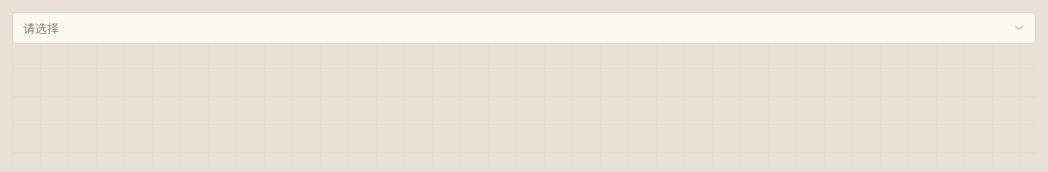
MultiSelect › **没有就地新建入口**：标签词表统一在「标签管理」里建
Click the button with aria-label "标签".
click(41, 28)  # box [12,12,1036,44]
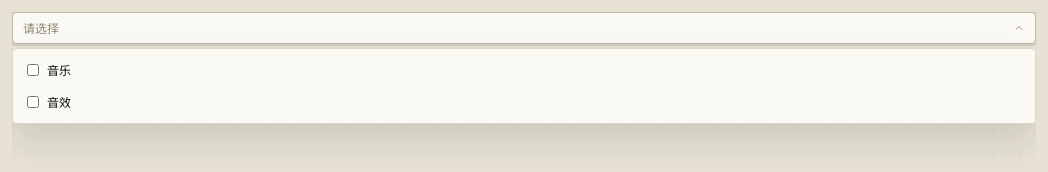
Expected: the checkbox labelled "音乐" is shown, [27,64,39,76]
